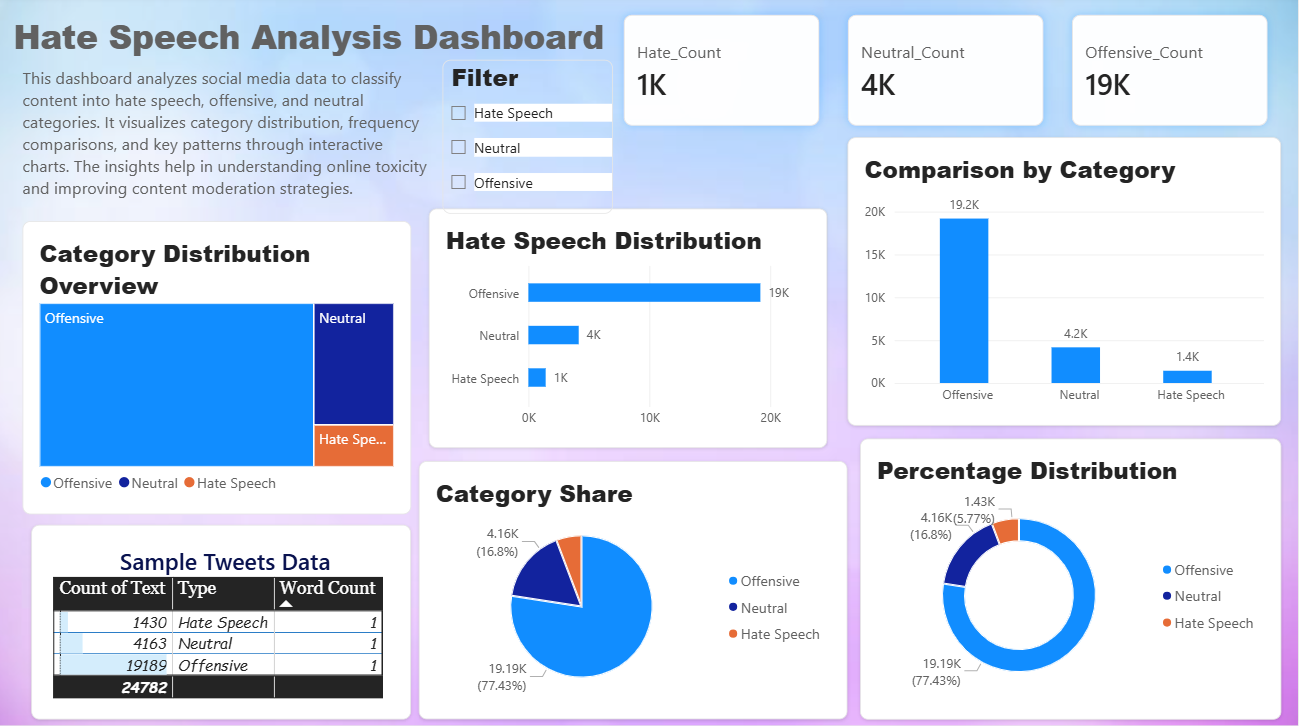

What the dashboard file says about the page in this screenshot:
{"tool":"powerbi","page":{"name":"Page 1","canvas":[1280,720],"ordinal":0},"visuals":[{"type":"clusteredBarChart","title":"Hate Speech Distribution","fields":{"Category":["labeled_data.Type"],"Y":["CountNonNull(labeled_data.Type)"]},"box":[425.8,208.6,391.4,235.6],"z":0},{"type":"pieChart","title":"Category Share","fields":{"Category":["labeled_data.Type"],"Y":["CountNonNull(labeled_data.Type)"]},"box":[416,456.4,420.9,254],"z":1000},{"type":"slicer","fields":{"Values":["labeled_data.Type"]},"box":[439.3,62.6,166.9,150.9],"z":2000},{"type":"tableEx","title":"Sample Tweets Data","fields":{"Values":["labeled_data.Text","labeled_data.Type","labeled_data.Word Count"]},"box":[35.6,519,373,191.4],"z":3000},{"type":"donutChart","title":"Percentage Distribution","fields":{"Category":["labeled_data.Type"],"Y":["CountNonNull(labeled_data.Type)"]},"box":[849.1,434.4,413.5,276.1],"z":4000},{"type":"clusteredColumnChart","title":"Comparison by Category","fields":{"Category":["labeled_data.Type"],"Y":["CountNonNull(labeled_data.Type)"]},"box":[836.8,138.7,425.8,283.4],"z":5000},{"type":"textbox","box":[10.1,17.3,595.9,51.9],"z":5001},{"type":"textbox","box":[27,541,153,150],"z":5002},{"type":"textbox","box":[27,68.7,398.8,139.9],"z":5003},{"type":"cardVisual","title":"  ","fields":{"Data":["labeled_data.Hate_Count","labeled_data.Neutral_Count","labeled_data.Offensive_Count"]},"box":[606.1,7.4,656.4,131.3],"z":5004},{"type":"treemap","title":"Category Distribution Overview","fields":{"Group":["labeled_data.Type"],"Values":["CountNonNull(labeled_data.Type)"]},"box":[27,220.9,381.6,288.3],"z":5005}]}

Visuals, with their boxes in screenshot pixels (x1, y1, x2, y2), scaled from the page's 1280x720 canvas onto the 1299x726 screenshot:
"Hate Speech Distribution" clusteredBarChart: left=432, top=210, right=829, bottom=448
"Category Share" pieChart: left=422, top=460, right=849, bottom=716
slicer - labeled_data.Type: left=446, top=63, right=615, bottom=215
"Sample Tweets Data" tableEx: left=36, top=523, right=415, bottom=716
"Percentage Distribution" donutChart: left=862, top=438, right=1281, bottom=716
"Comparison by Category" clusteredColumnChart: left=849, top=140, right=1281, bottom=426
textbox: left=10, top=17, right=615, bottom=70
textbox: left=27, top=546, right=183, bottom=697
textbox: left=27, top=69, right=432, bottom=210
"  " cardVisual: left=615, top=7, right=1281, bottom=140
"Category Distribution Overview" treemap: left=27, top=223, right=415, bottom=513
